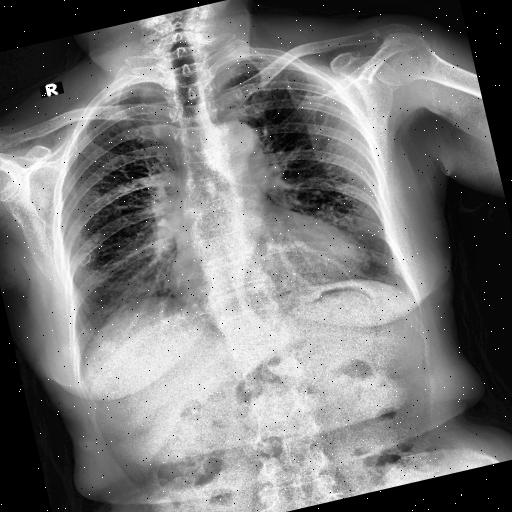0- Aortic enlargement: (206, 116, 270, 188), (210, 114, 262, 161)
3- Cardiomegaly: (160, 210, 374, 322), (166, 222, 376, 320), (164, 227, 376, 321)
